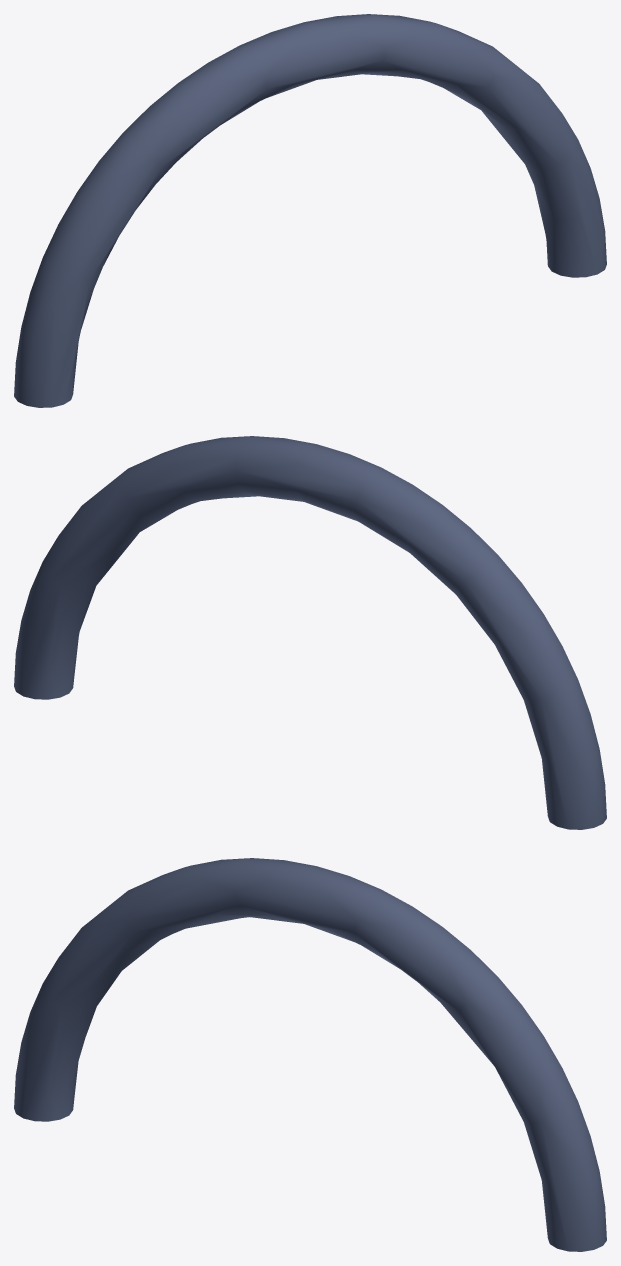
Rendered from broken-ring.medium.glb.
3 renders of one model, top to bottom at view 1: azimuth 30°, elevation 25°; view 2: azimuth 150°, elevation 25°; view 3: azimuth 330°, elevation 25°, orthographic.
Parts seen in each view (by area): view 1: broken-ring-body; view 2: broken-ring-body; view 3: broken-ring-body.
Boxes of the visible parts, <box> form: broken-ring-body: <box>14,14,606,407</box>; broken-ring-body: <box>14,436,606,829</box>; broken-ring-body: <box>14,858,606,1251</box>.
Bounding box in the file's own units: 5.7 × 2.85 × 0.4871.
